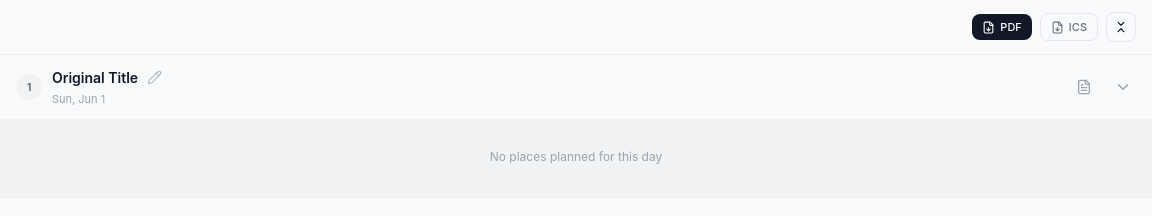
Test: DayPlanSidebar › FE-PLANNER-DAYPLAN-015: clicking edit button enters edit mode
Click the button without text next to "Original Title" at (155, 78), box [143, 66, 166, 89]
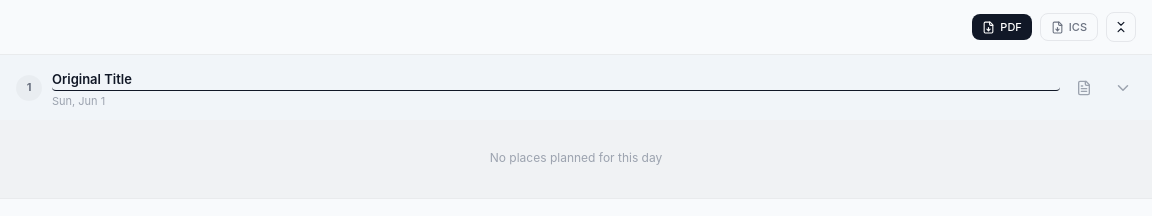
Expected: the field showing "Original Title" is shown, [52, 70, 1060, 90]
